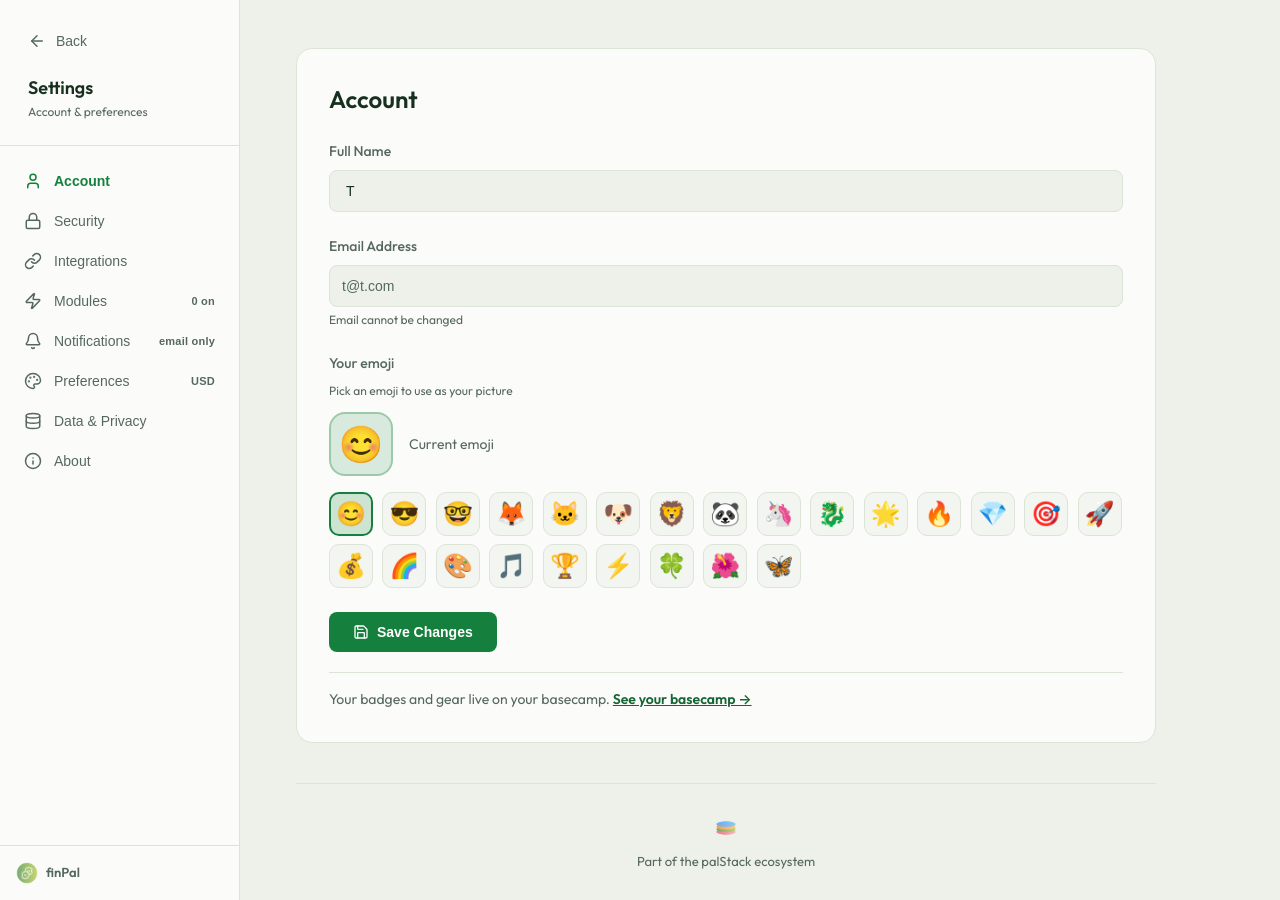
it: Settings — Modules tab › shows the CURRENT state from the server, not from localStorage
The image size is (1280, 900).
Step 1. Click the text "Modules" → [80, 301], box [54,293,107,309]
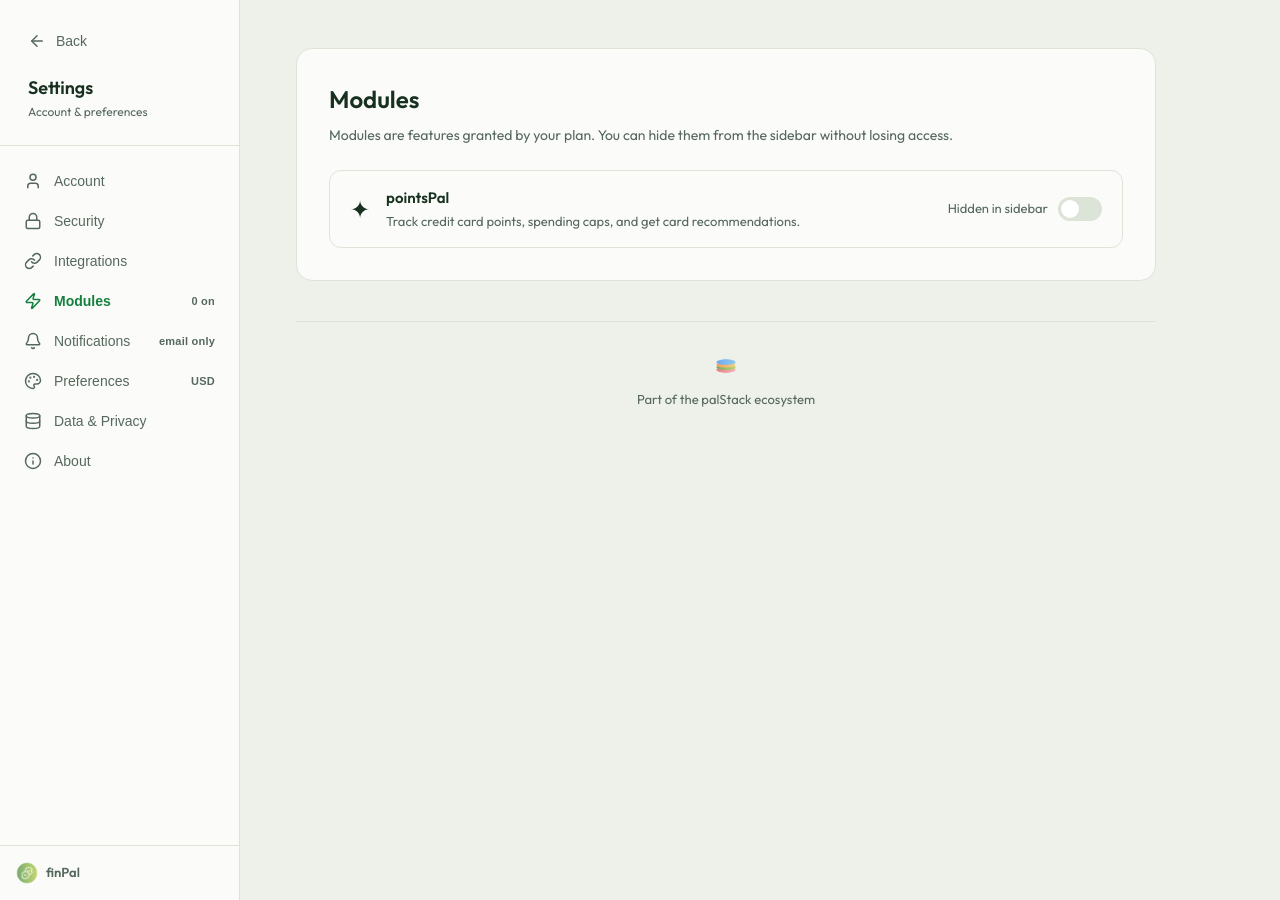
expect the text "Hidden in sidebar" is shown: met, box [948,199,1048,219]
